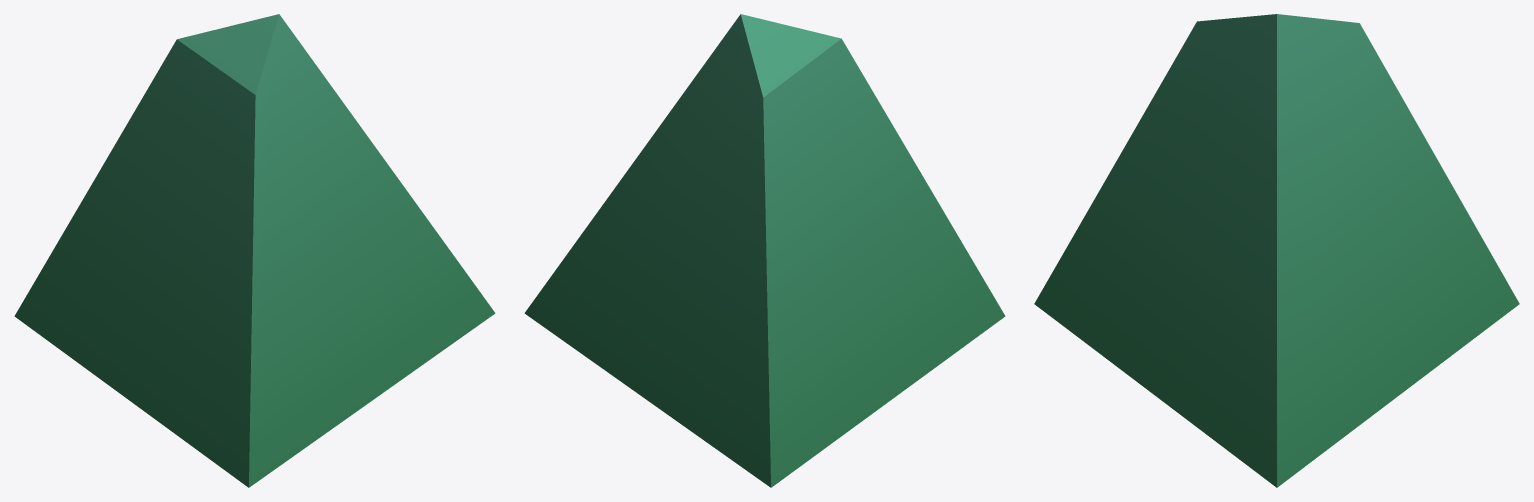
Rendered from MountainFar001.glb.
3 views of the same model, side by side, from view 1: azimuth 30°, elevation 25°; view 2: azimuth 150°, elevation 25°; view 3: azimuth 270°, elevation 25° (orthographic). The views are drawn at different scales.
Parts seen in each view (by area): view 1: MountainFar001; view 2: MountainFar001; view 3: MountainFar001.
Boxes of the visible parts, <box> form: MountainFar001: <box>14,14,495,487</box>; MountainFar001: <box>524,14,1005,487</box>; MountainFar001: <box>1034,14,1519,487</box>.
Size of the model in its own units: 796 by 736 by 888.
Materials: 1 (1 with a texture image).
